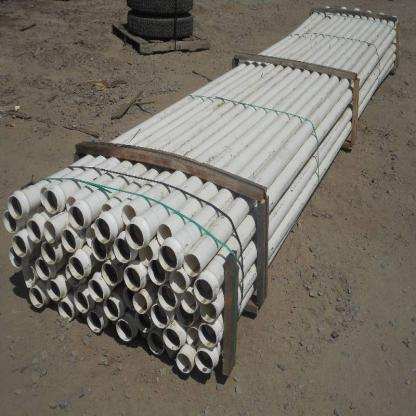PVC: (4, 6, 403, 372)
